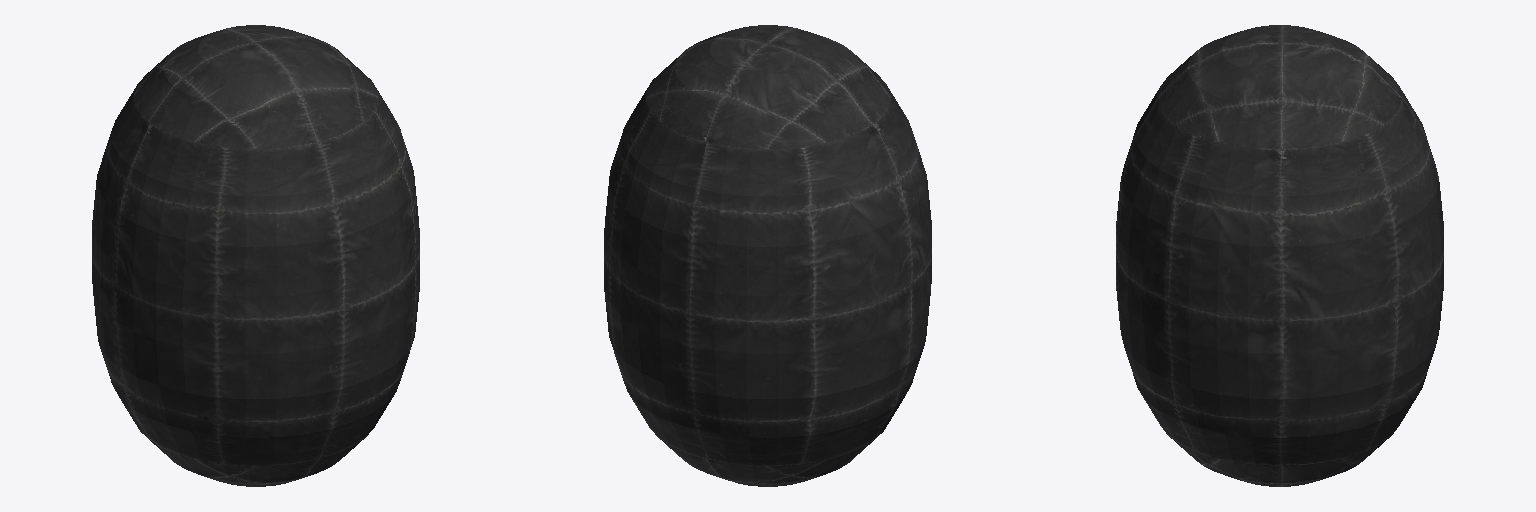
3 renders of one model, left to right at view 1: azimuth 30°, elevation 25°; view 2: azimuth 150°, elevation 25°; view 3: azimuth 270°, elevation 25°, orthographic.
Visible parts, largest first — view 1: Cylinder; view 2: Cylinder; view 3: Cylinder.
Boxes of the visible parts, x1,y1,x2,y2 form: Cylinder: [92, 25, 419, 486]; Cylinder: [604, 25, 931, 486]; Cylinder: [1116, 25, 1443, 486].
Bounding box in the file's own units: 0.7 × 1 × 0.7.
Materials: 1 (1 with a texture image).